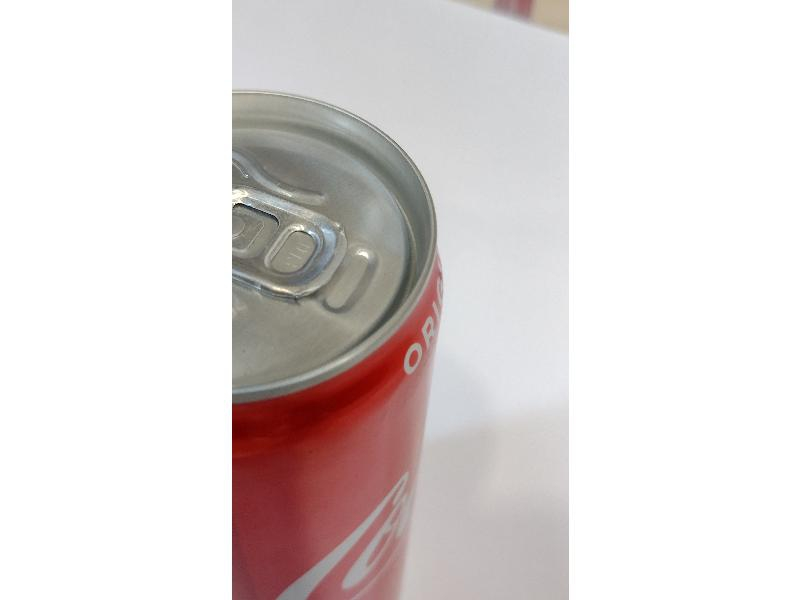can: (234, 94, 445, 595)
